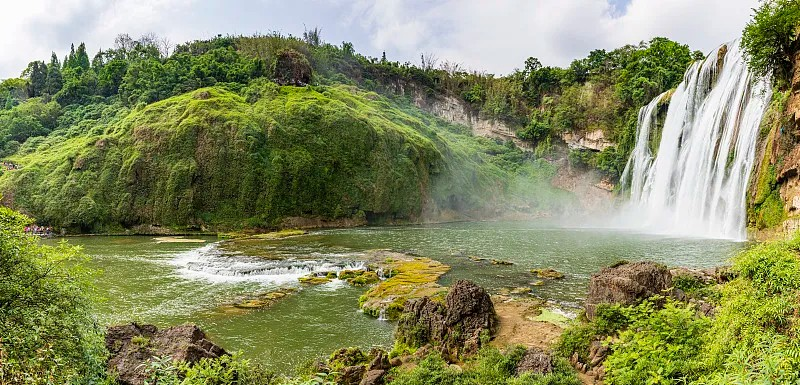Huangguoshu: (623, 43, 770, 241)
